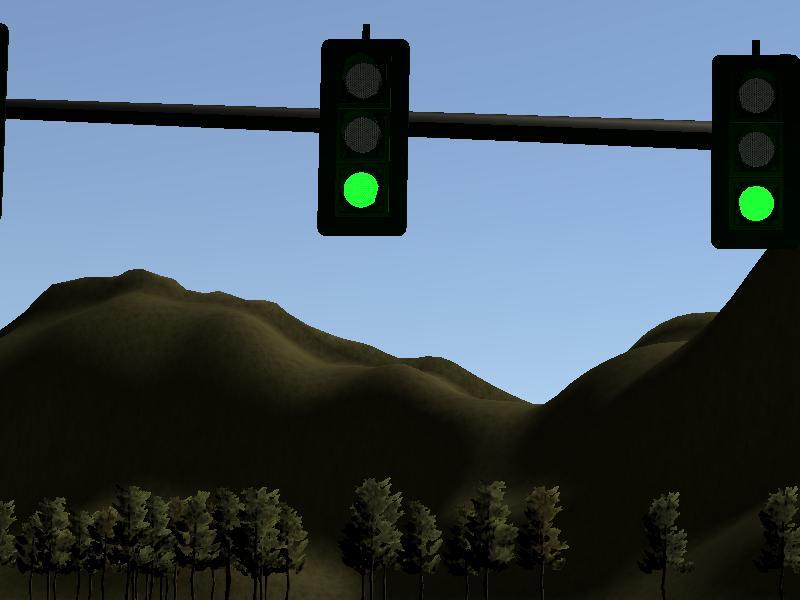Green: (318, 39, 407, 236), (712, 55, 799, 247)
